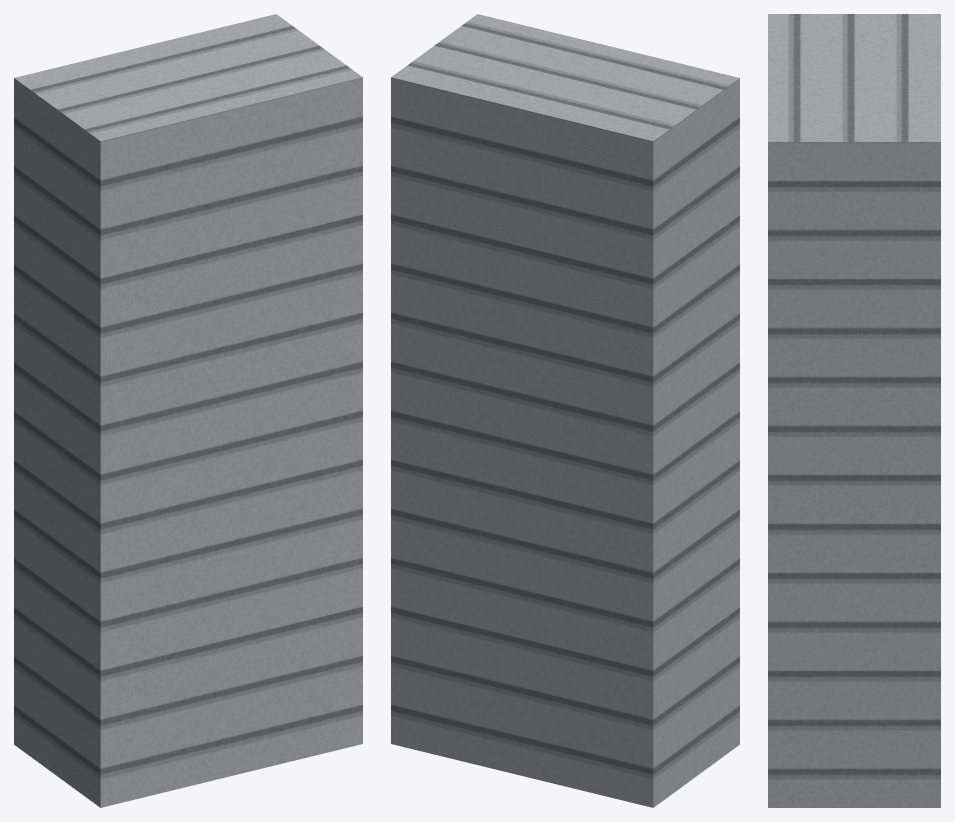
Rendered from curio_cabinet.glb.
3 views of the same model, side by side, from view 1: azimuth 30°, elevation 25°; view 2: azimuth 150°, elevation 25°; view 3: azimuth 270°, elevation 25° (orthographic).
Parts seen in each view (by area): view 1: curio_cabinet-col; view 2: curio_cabinet-col; view 3: curio_cabinet-col.
Part boxes in pixels (left/top/right/bottom): curio_cabinet-col: left=14, top=14, right=362, bottom=807; curio_cabinet-col: left=391, top=14, right=739, bottom=807; curio_cabinet-col: left=768, top=14, right=940, bottom=807.
Size of the model in its own units: 0.7 by 1.7 by 0.4.
1 material, 1 textured.
